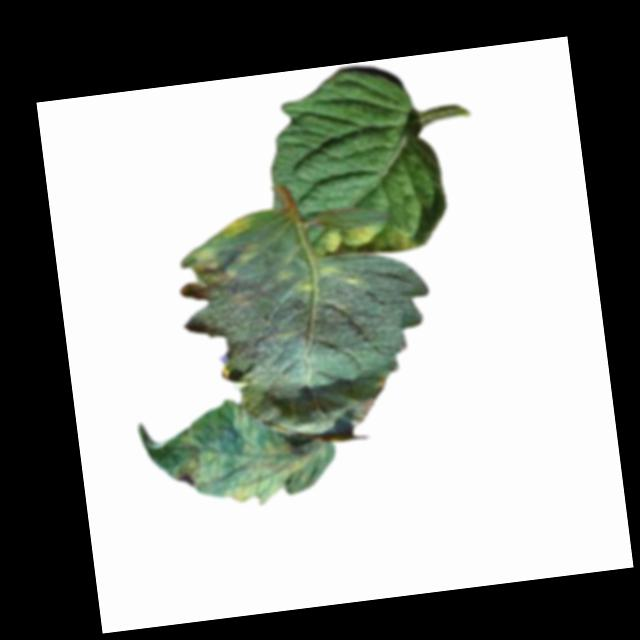Leaf_Mold: (221, 390, 314, 509), (179, 238, 262, 316), (312, 212, 417, 262), (169, 446, 229, 493), (218, 214, 253, 241)
